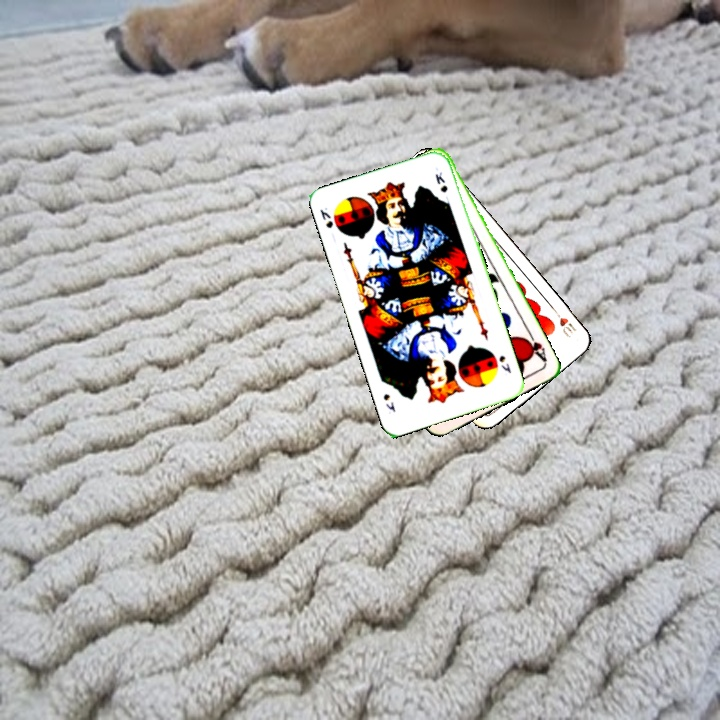H10: (549, 304, 579, 341)
HA: (519, 327, 550, 365)
SK: (316, 203, 336, 231), (495, 351, 514, 376)
